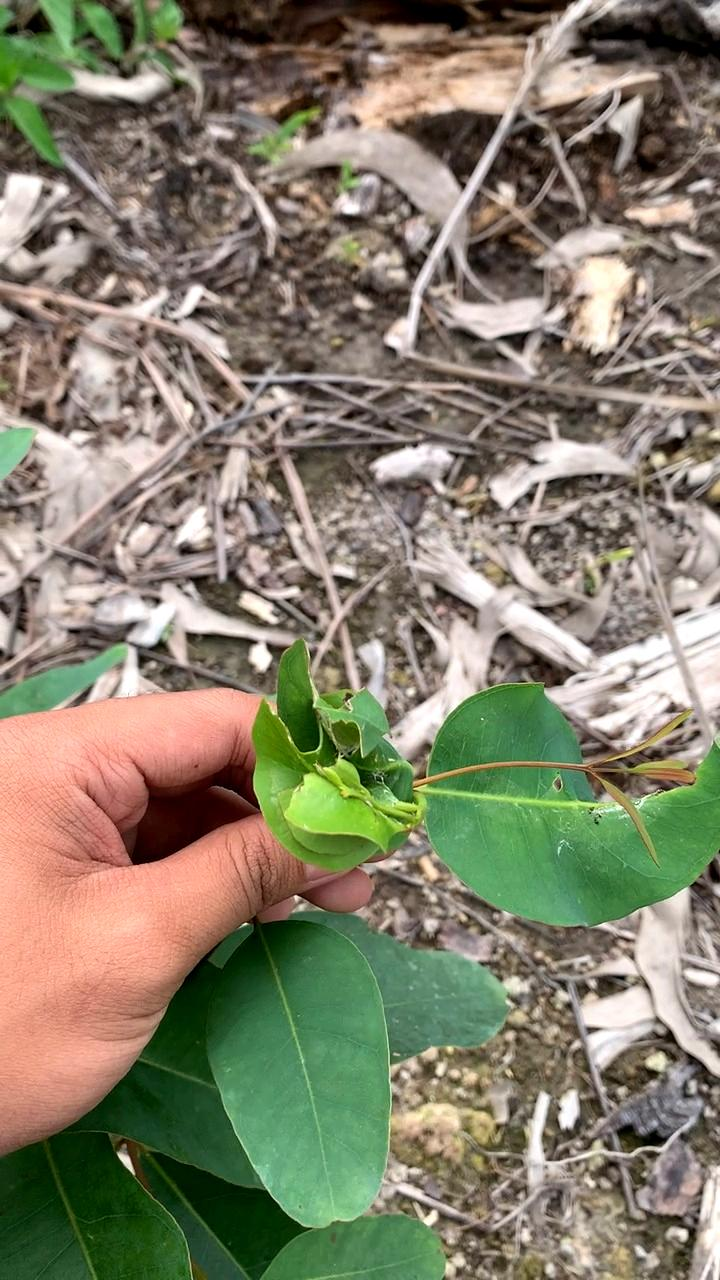Leaf Roller - Leaf: (246, 641, 425, 875)
